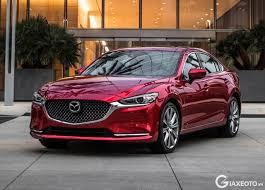mazda: (65, 98, 86, 115)
